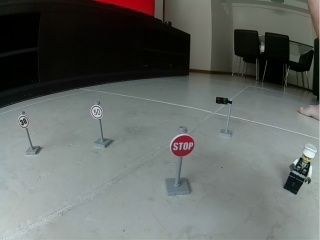Green Traffic Light: (214, 96, 235, 139)
Person: (281, 142, 317, 194)
Speed Limit 30: (16, 116, 29, 128)
Speed Limit 50: (91, 106, 103, 118)
Stop Sign: (170, 134, 195, 158)
